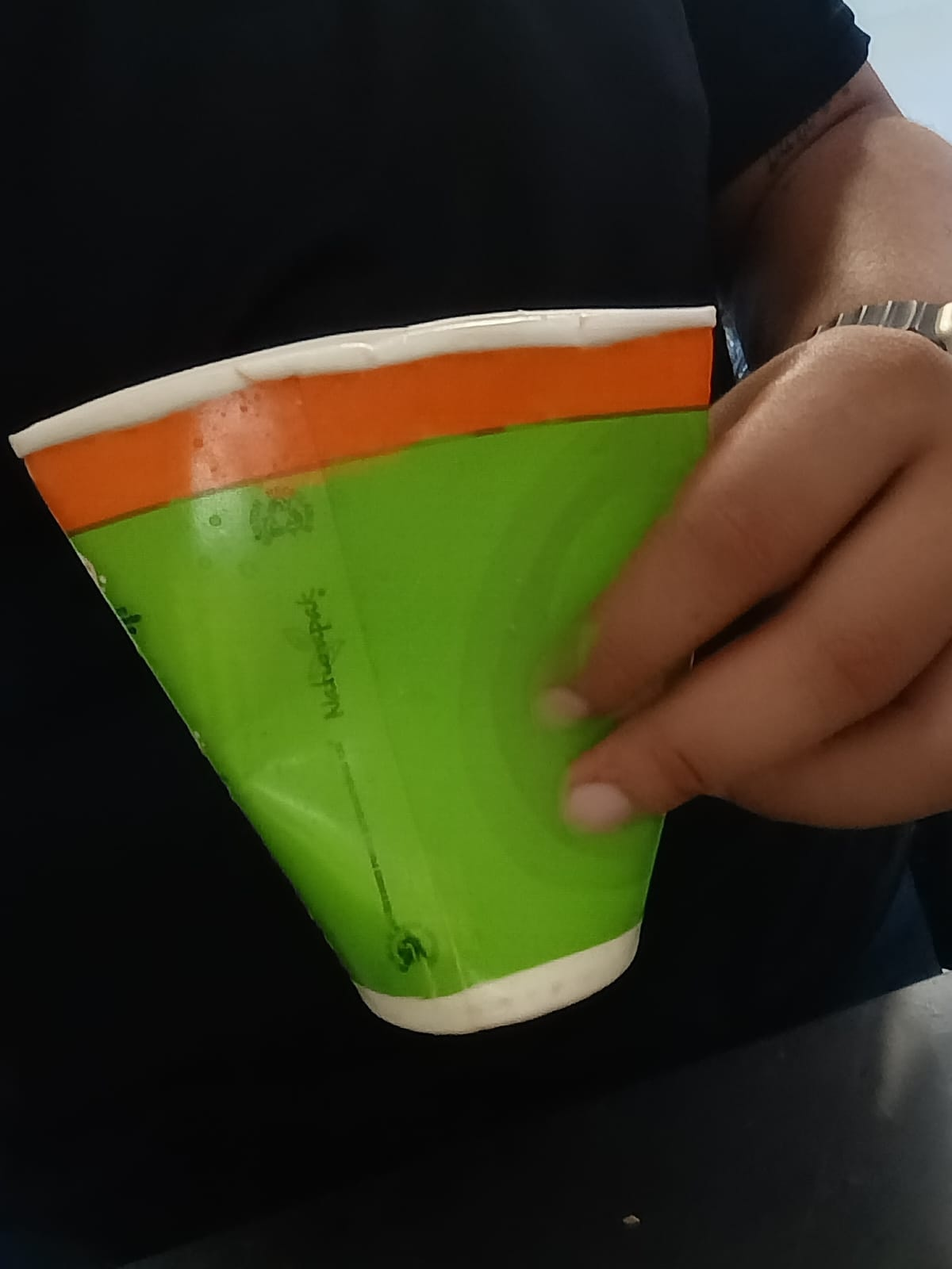Carton: (7, 306, 719, 1034)
